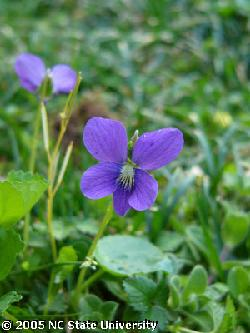violet: (77, 113, 191, 220)
